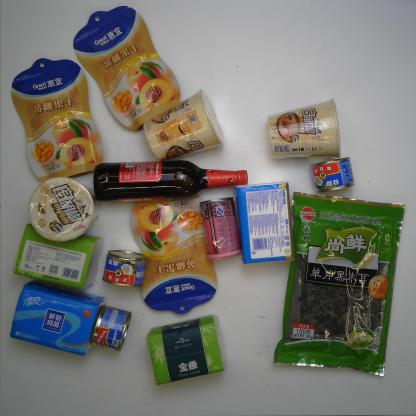Alcohol: (92, 159, 248, 203)
Canned Food: (200, 197, 243, 262), (90, 304, 132, 352), (309, 156, 355, 195), (102, 250, 148, 288)
Dried Food: (272, 190, 406, 379)
Dried Fruit: (72, 6, 181, 132), (10, 57, 105, 184), (130, 196, 218, 315)
Instant Noodles: (143, 89, 224, 162), (27, 176, 100, 243), (268, 97, 342, 161)
Tissue: (9, 278, 106, 356), (13, 223, 104, 290), (146, 316, 225, 386), (233, 181, 296, 266)
